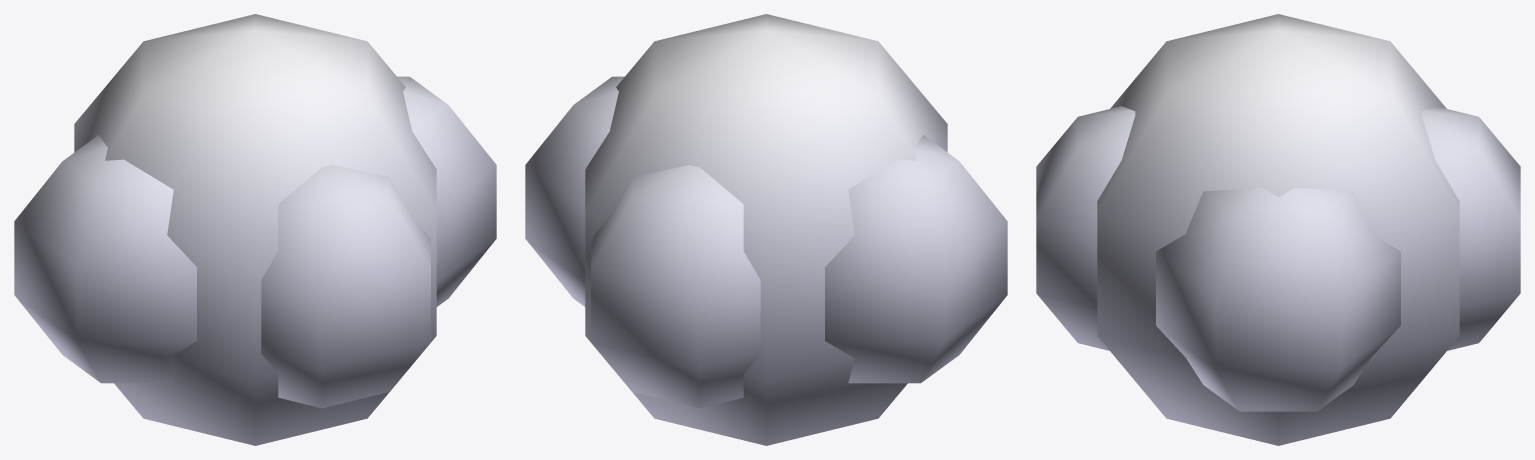
The model's file is dust.glb.
3 renders of one model, left to right at view 1: azimuth 30°, elevation 25°; view 2: azimuth 150°, elevation 25°; view 3: azimuth 270°, elevation 25°, orthographic.
Parts seen in each view (by area): view 1: dust; view 2: dust; view 3: dust.
Boxes of the visible parts, x1=… form: dust: x1=14, y1=14, x2=496, y2=445; dust: x1=525, y1=14, x2=1007, y2=445; dust: x1=1036, y1=14, x2=1520, y2=445.
Bounding box in the file's own units: 0.3631 × 0.33 × 0.3631.
1 material, 1 textured.
